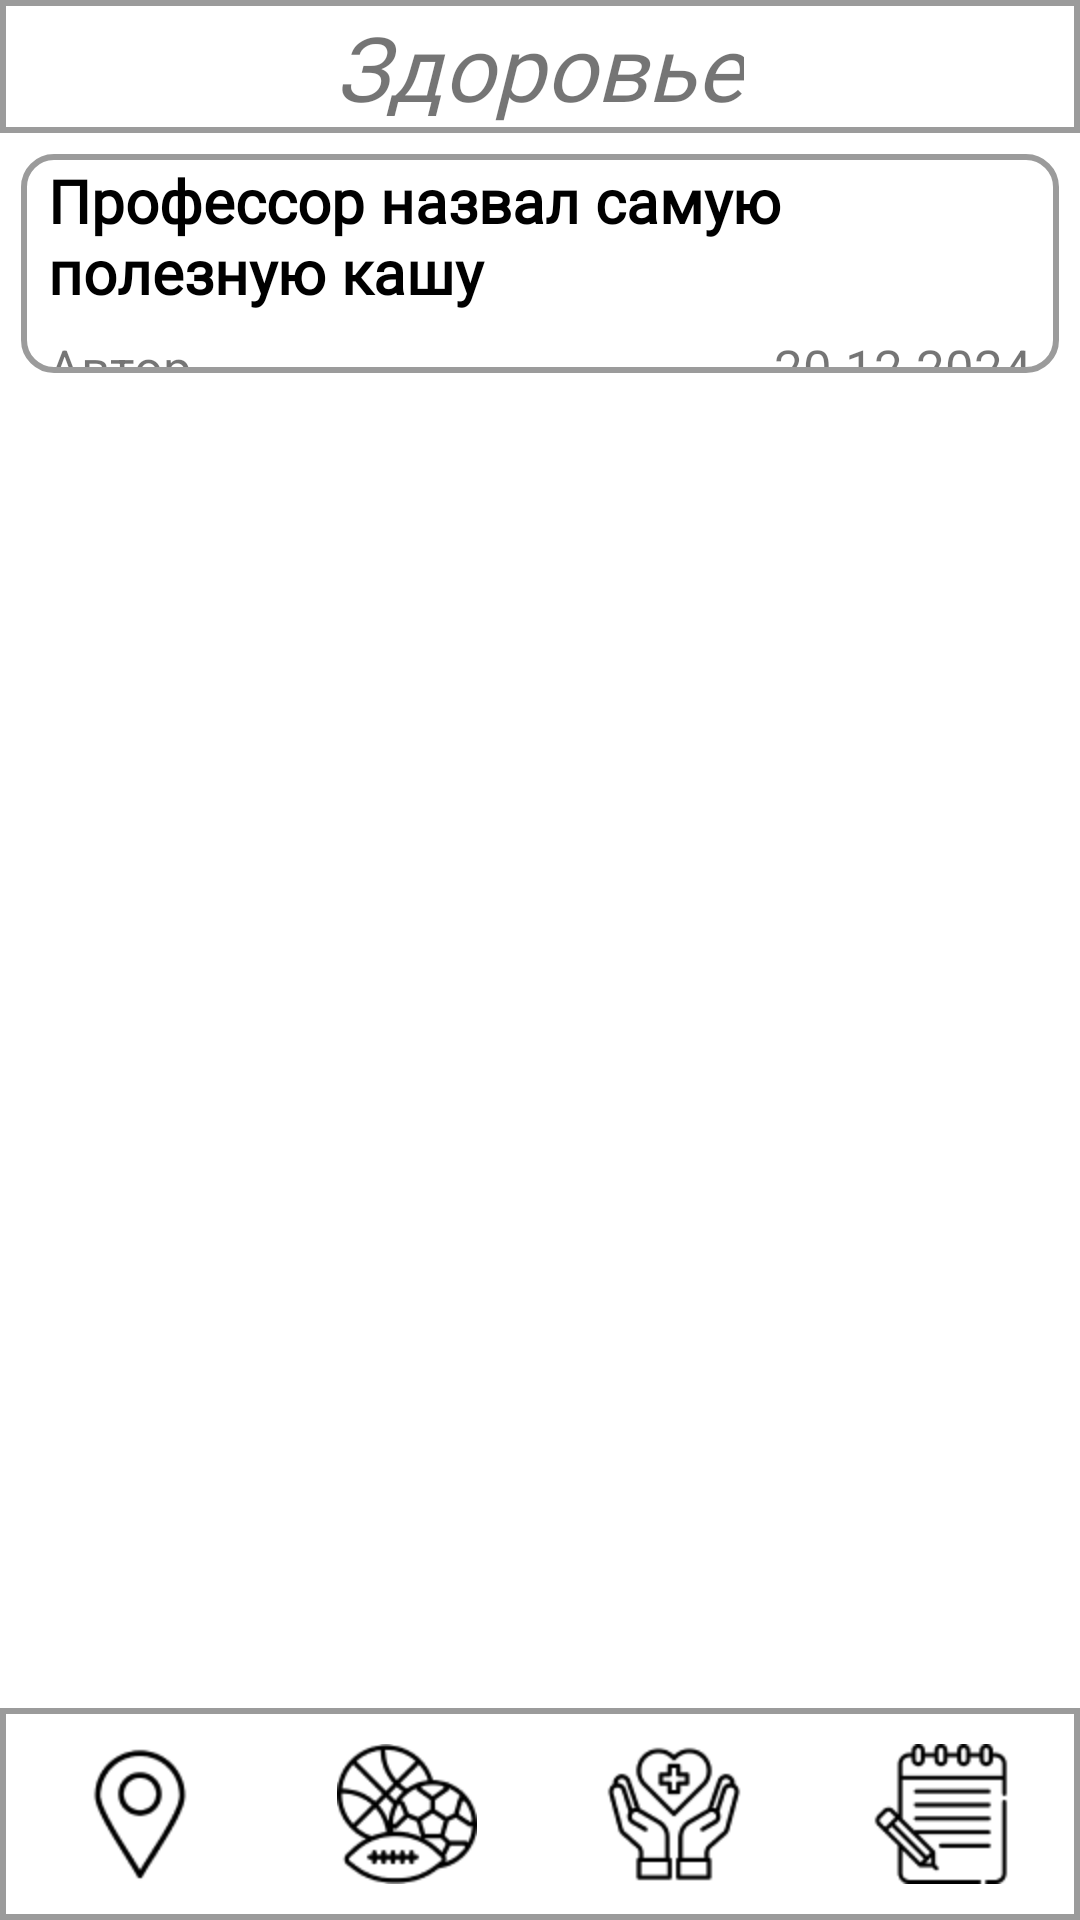

Named icons in this screenshot (1080 × 1920) and their centers, (x,y):
Здоровье: (674,1814)
Спорт: (407,1814)
